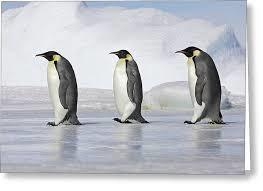emporer: (166, 40, 233, 133), (28, 43, 88, 134), (100, 45, 156, 136)
